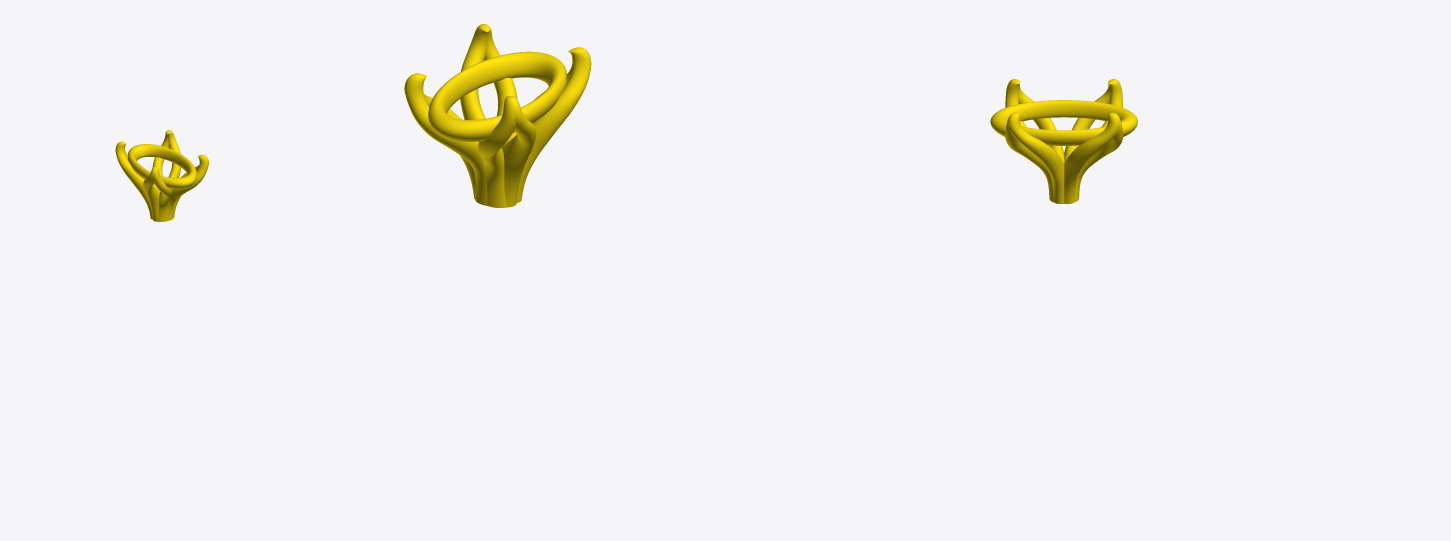
File: MOVAL.glb
The picture shows the model from 3 angles, left to right: view 1: azimuth 30°, elevation 25°; view 2: azimuth 150°, elevation 25°; view 3: azimuth 270°, elevation 25°; orthographic projection. The views are drawn at different scales.
Parts seen in each view (by area): view 1: HD-Tulip-Oval-103dm; view 2: HD-Tulip-Oval-103dm; view 3: HD-Tulip-Oval-103dm.
Boxes of the visible parts, x1,y1,x2,y2 form: HD-Tulip-Oval-103dm: (115,130,208,221); HD-Tulip-Oval-103dm: (404,24,591,207); HD-Tulip-Oval-103dm: (990,79,1137,203).
Bounding box in the file's own units: 3.08 × 17.16 × 20.83.
